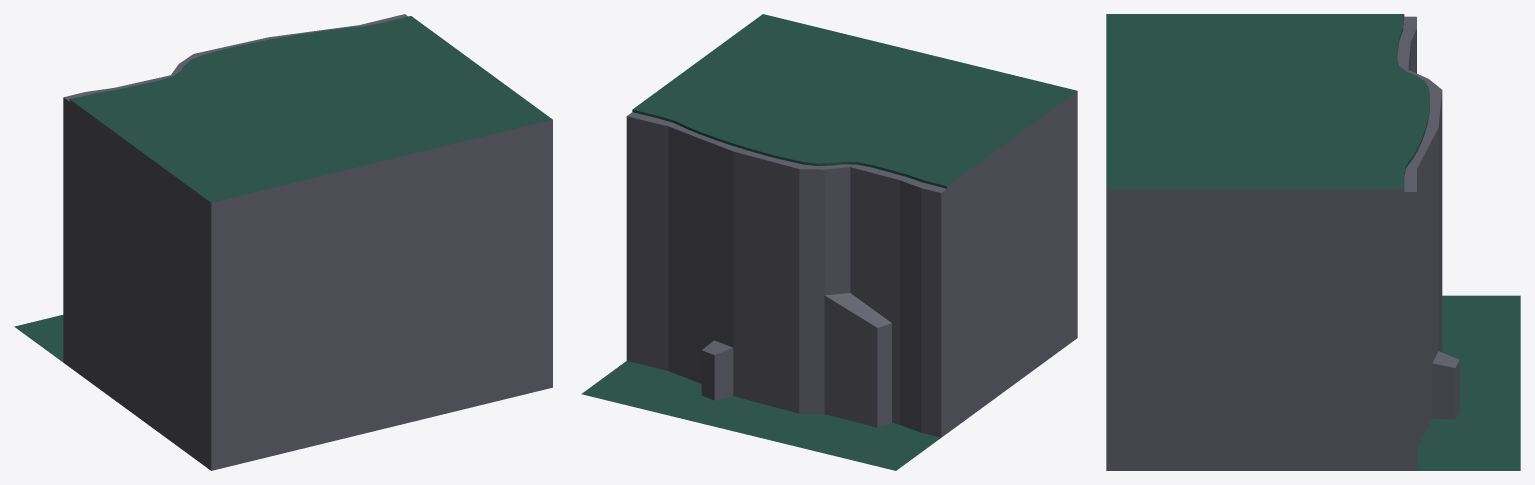
File: WFCSide.fbx
3 views of the same model, side by side, from view 1: azimuth 30°, elevation 25°; view 2: azimuth 150°, elevation 25°; view 3: azimuth 270°, elevation 25° (orthographic). The views are drawn at different scales.
Visible parts, largest first — view 1: Plane.002; view 2: Plane.002; view 3: Plane.002.
Part boxes in pixels (x1,y1,x2,y2): Plane.002: (14,14,552,470); Plane.002: (581,14,1077,470); Plane.002: (1106,14,1520,470).
Size of the model in its own units: 100 by 75 by 100.
